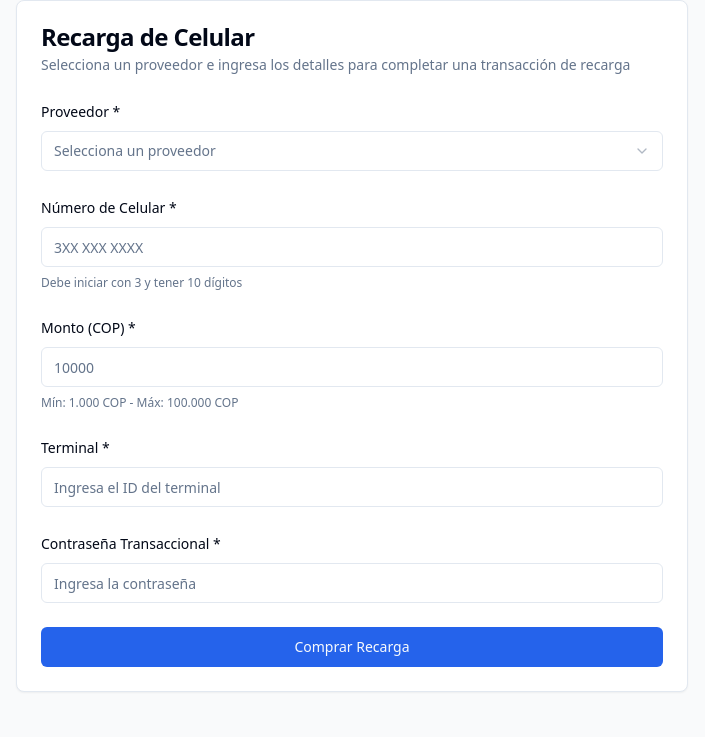
Test: TopUpPage › Business Rule: Amount Validation › should show error for amount less than 1000
Type "500" into the field labelled "Monto (COP) *" at (352, 367), box [41,347,663,387]
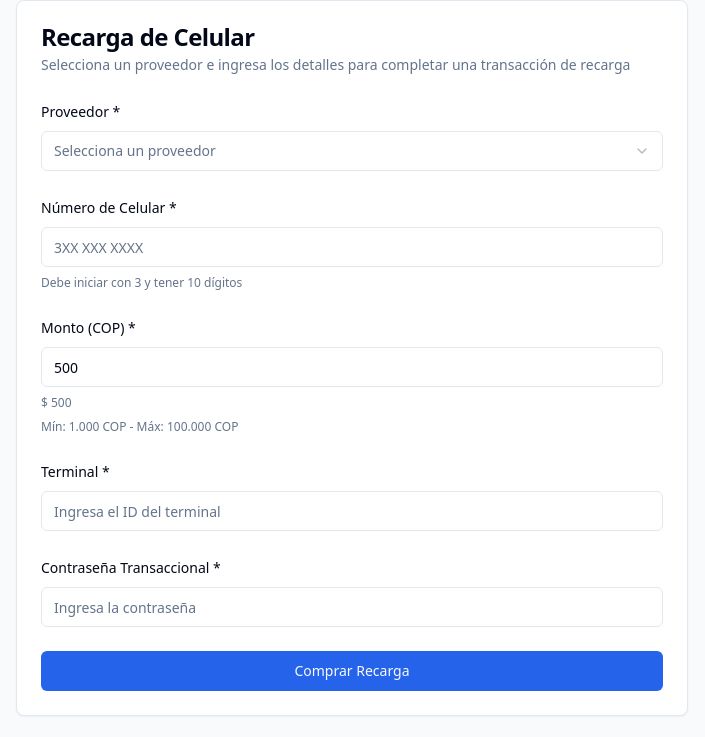
Leave the field labelled "Monto (COP) *", box [41,347,663,387]
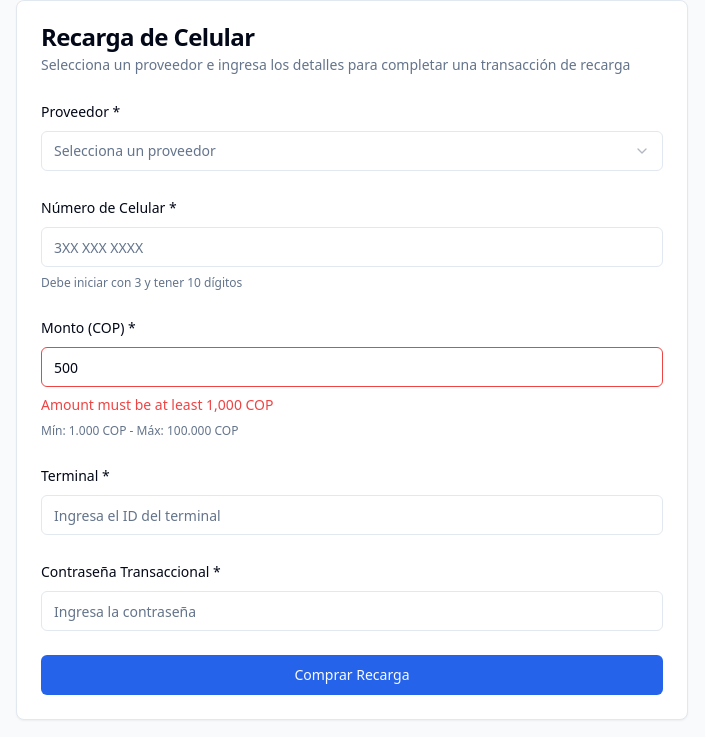
Expected: the text "Amount must be at least 1,000 COP" is shown, [41,395,274,414]
